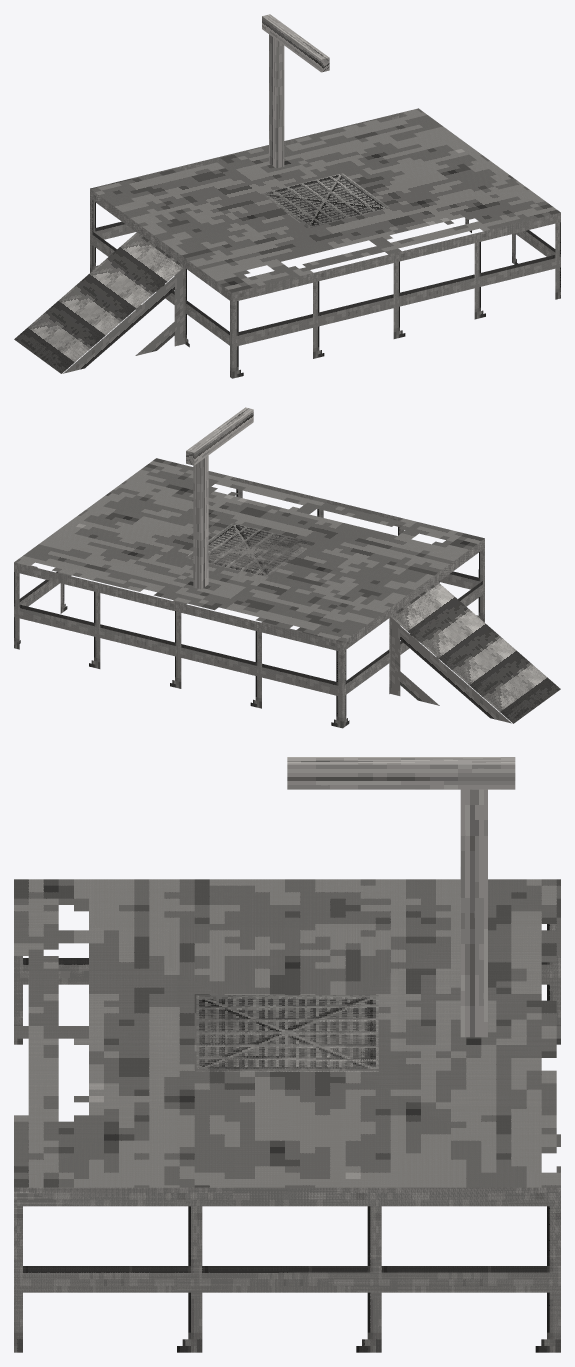
File: uvmd-0167.glb
3 renders of one model, top to bottom at view 1: azimuth 30°, elevation 25°; view 2: azimuth 150°, elevation 25°; view 3: azimuth 270°, elevation 25°, orthographic. The views are drawn at different scales.
Parts seen in each view (by area): view 1: uvmd-0167; view 2: uvmd-0167; view 3: uvmd-0167.
Part boxes in pixels (x1,y1,x2,y2): uvmd-0167: (14, 14, 560, 378); uvmd-0167: (14, 407, 560, 728); uvmd-0167: (14, 757, 560, 1352).
Size of the model in its own units: 110 by 53 by 60.
5 materials, 5 textured.
